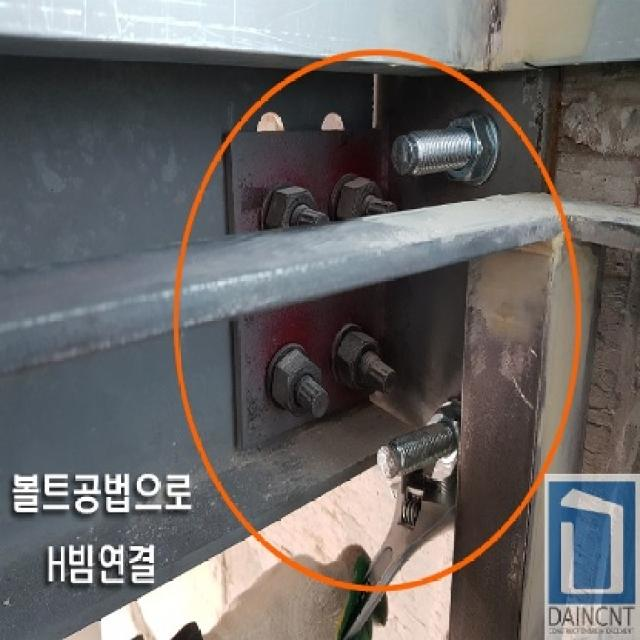Regular bolt: (392, 106, 510, 205), (372, 406, 482, 484), (263, 340, 338, 429), (335, 326, 415, 404), (333, 173, 408, 242), (262, 177, 337, 245)
